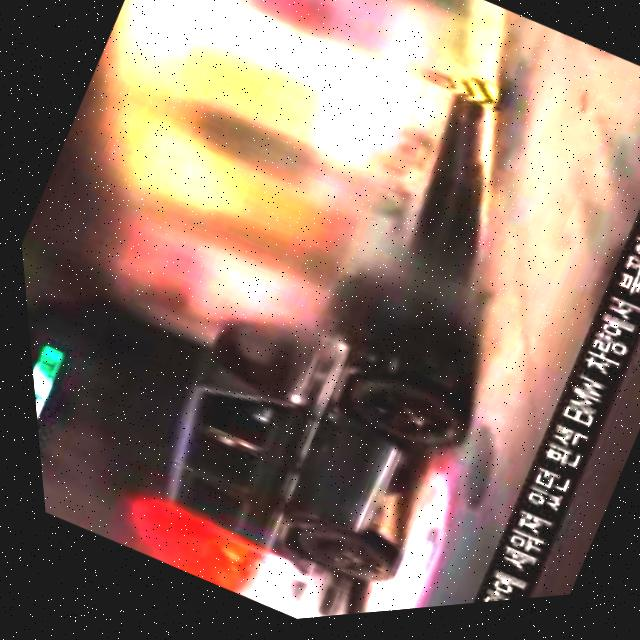Fire: (130, 502, 256, 606)
